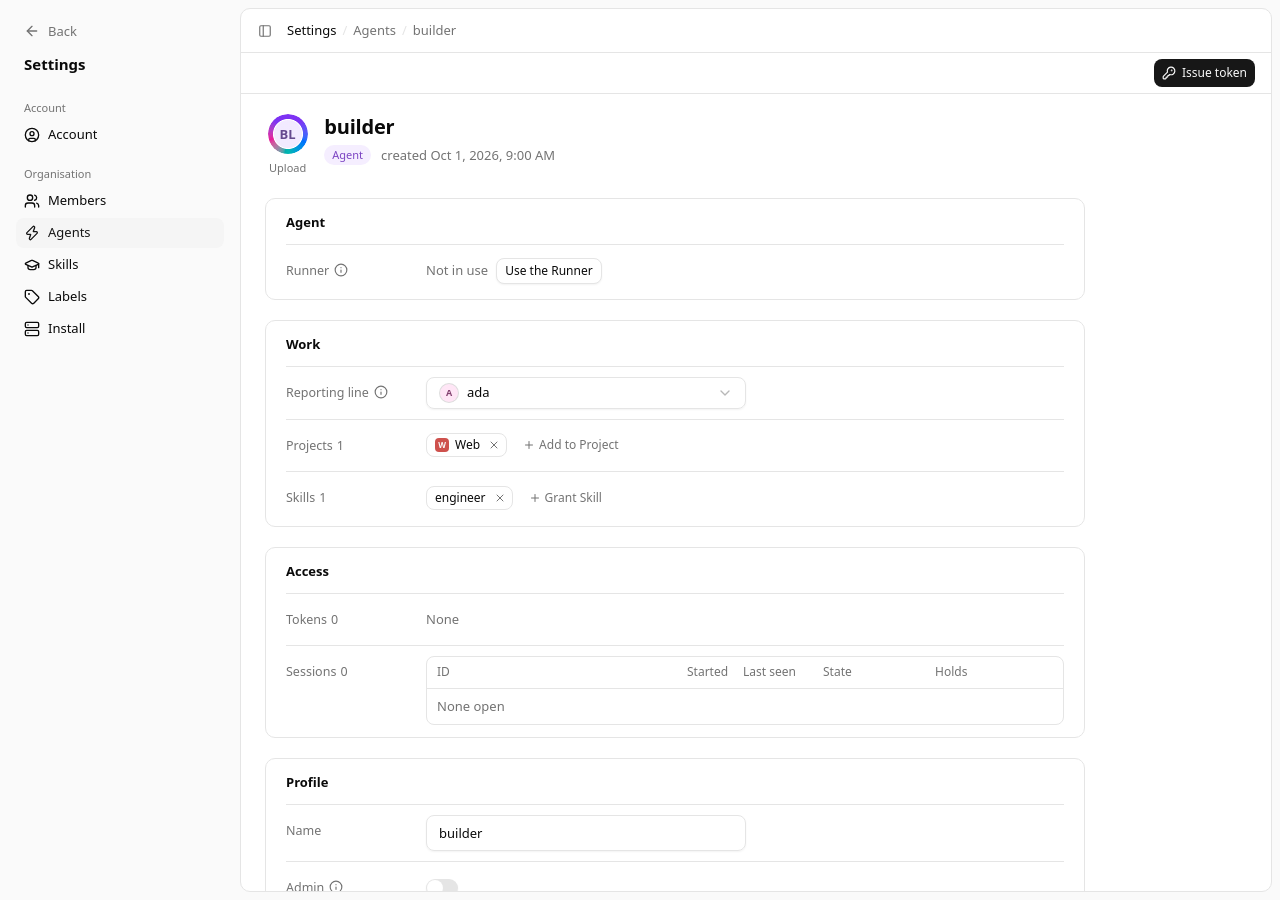
Test: an agent's settings › hands an agent with no settings to the Runner with the Install's defaults
Check: the element named "Agent settings of builder" shows "Not in use", box [426,261,488,279]
Check: the element named "Agent settings of builder" does not show "whenever it has a Task to take", box [286,244,1064,297]
Click the button named "About Runner" at (341, 270), box [333,262,349,278]
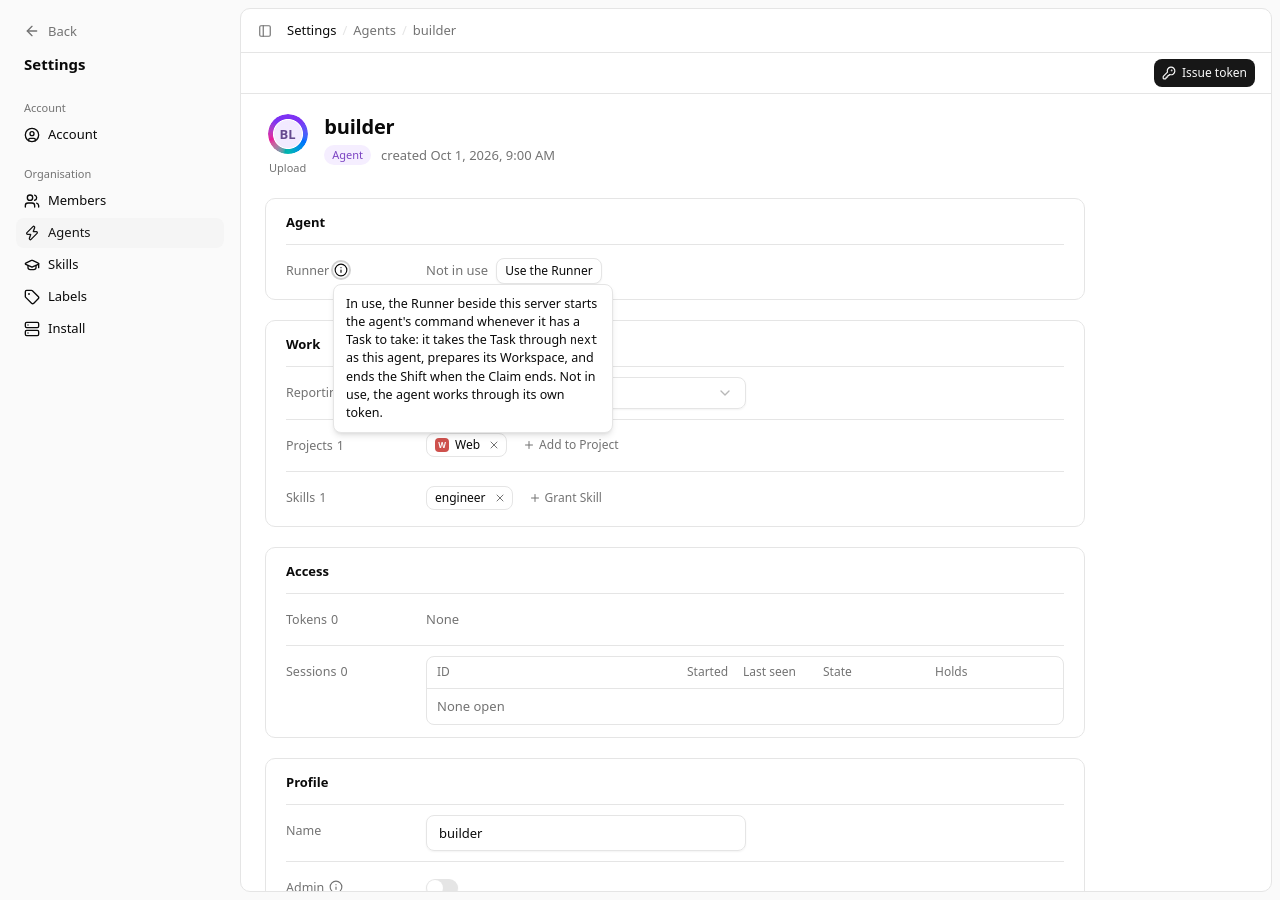
Check: the text "the Runner beside this server starts the agent's command whenever it has a Task to take" is shown, box [346,295,597,348]
Press Escape
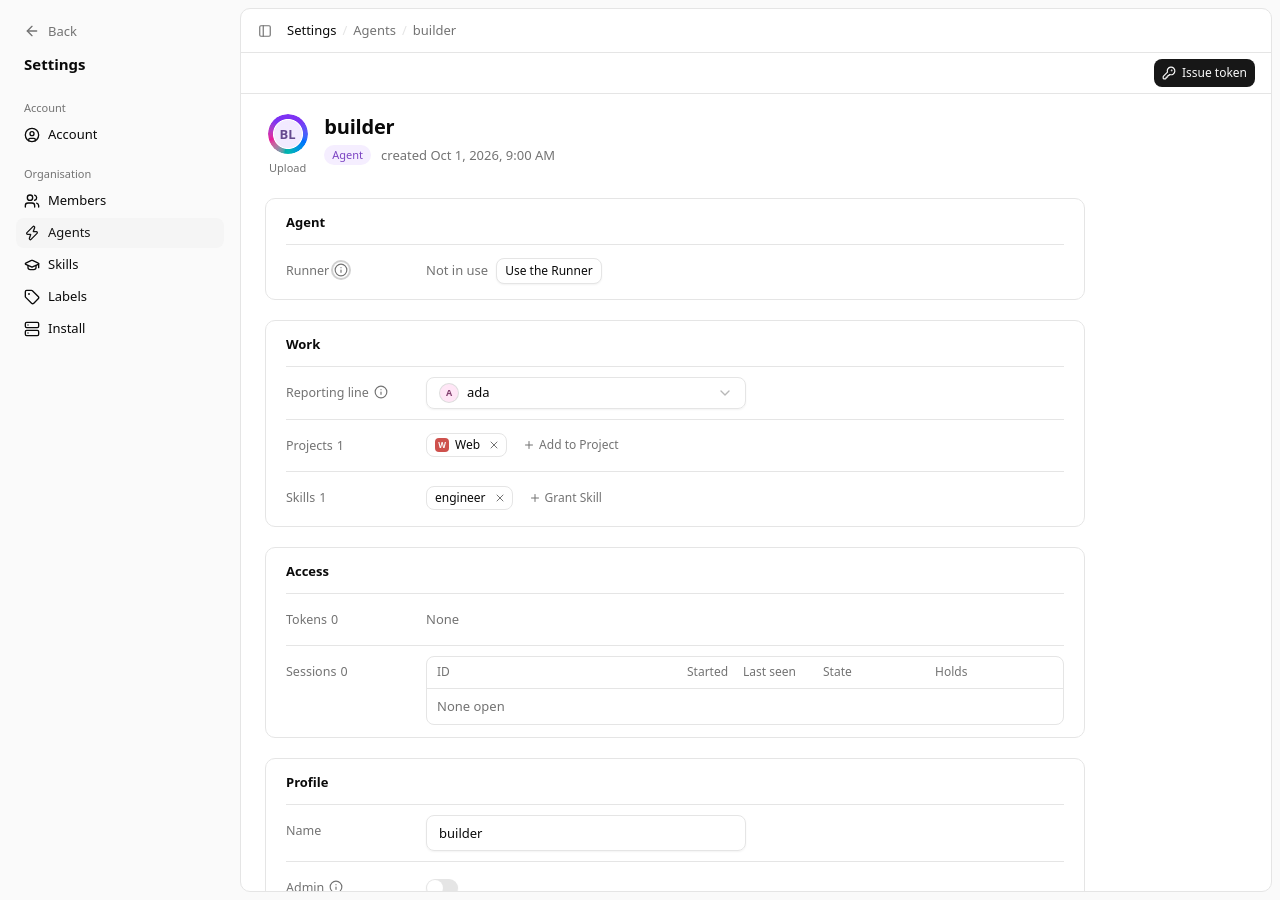
Click the button "Use the Runner" at (549, 271), box [496,258,602,284]
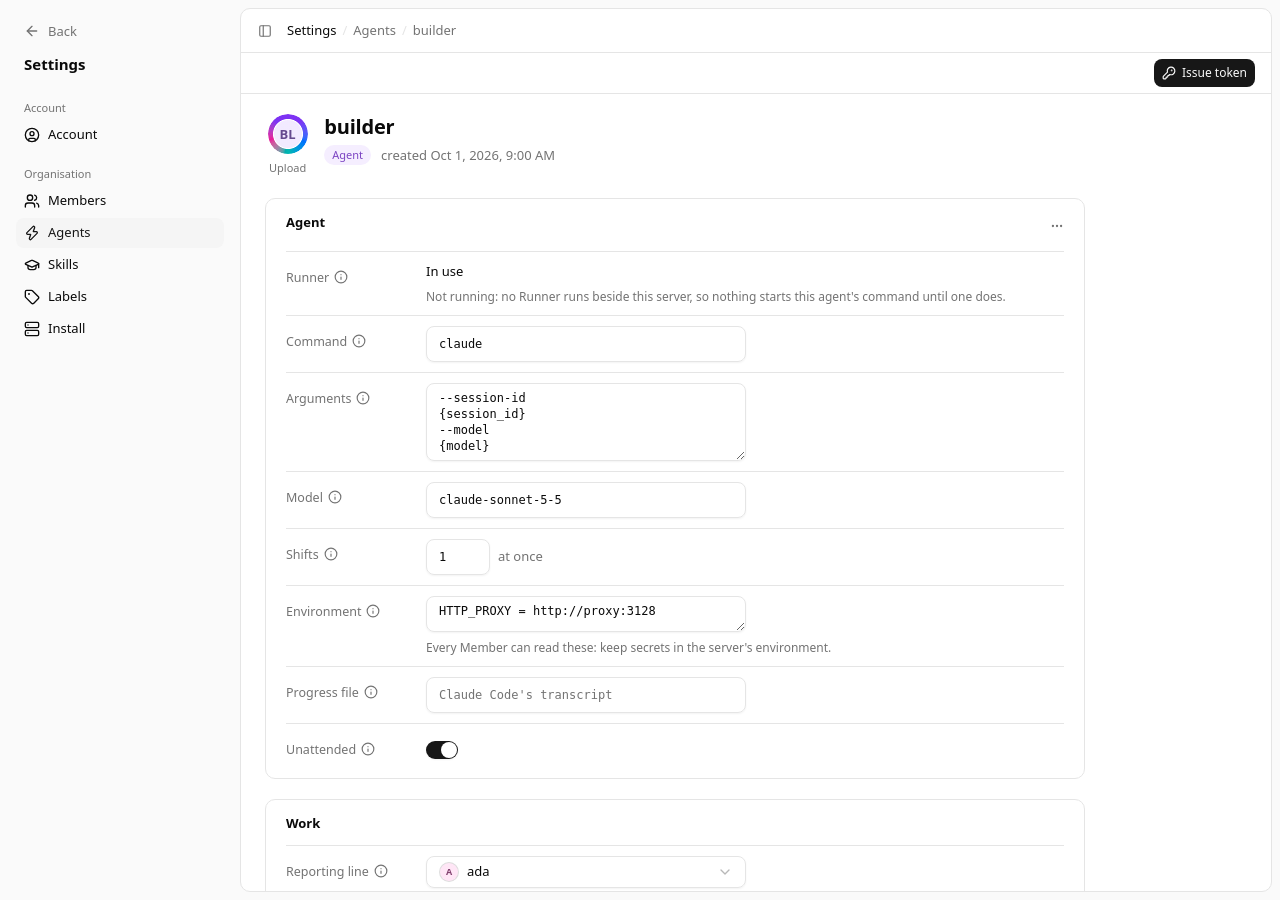
Check: the field labelled "Command" holds "claude", box [426,326,746,362]
